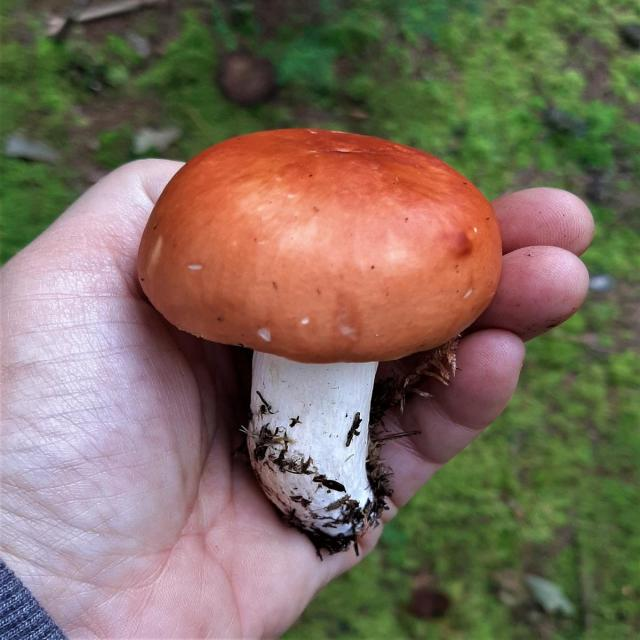Mushroom: (135, 125, 458, 550)
